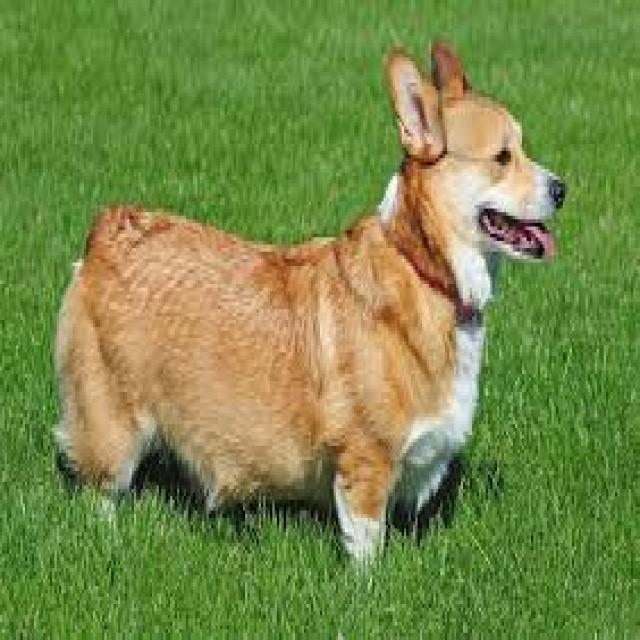CORGI: (61, 31, 568, 568)
